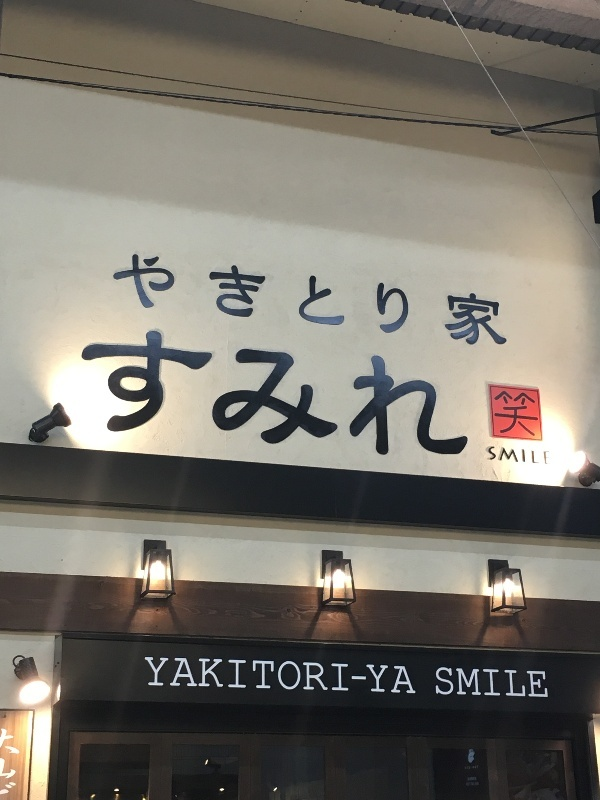text: (97, 322, 112, 466), (113, 322, 128, 466), (129, 322, 144, 466), (145, 322, 160, 466), (161, 322, 176, 466), (177, 322, 192, 466), (193, 322, 208, 466), (209, 322, 224, 466), (225, 322, 240, 466), (241, 322, 256, 466), (257, 322, 272, 466), (273, 322, 288, 466), (289, 322, 304, 466), (305, 322, 320, 466), (321, 322, 336, 466), (337, 322, 352, 466), (353, 322, 368, 466), (369, 322, 384, 466), (385, 322, 400, 466), (401, 322, 416, 466), (417, 322, 432, 466), (433, 322, 448, 466), (449, 322, 464, 466), (129, 247, 144, 353), (145, 247, 160, 353), (161, 247, 176, 353), (177, 247, 192, 353), (193, 247, 208, 353), (209, 247, 224, 353), (225, 247, 240, 353), (241, 247, 256, 353), (257, 247, 272, 353), (273, 247, 288, 353), (289, 247, 304, 353), (305, 247, 320, 353), (321, 247, 336, 353), (337, 247, 352, 353), (353, 247, 368, 353), (369, 247, 384, 353), (385, 247, 400, 353), (401, 247, 416, 353), (417, 247, 432, 353), (433, 247, 448, 353), (449, 247, 464, 353), (465, 247, 480, 353), (481, 247, 496, 353), (85, 322, 96, 466), (117, 247, 128, 353), (497, 247, 508, 353), (1, 725, 16, 799), (497, 388, 512, 439), (513, 388, 528, 439), (145, 651, 160, 700), (161, 651, 176, 700), (177, 651, 192, 700), (193, 651, 208, 700), (209, 651, 224, 700), (225, 651, 240, 700), (241, 651, 256, 700), (257, 651, 272, 700), (273, 651, 288, 700), (289, 651, 304, 700), (305, 651, 320, 700), (321, 651, 336, 700), (337, 651, 352, 700), (353, 651, 368, 700), (369, 651, 384, 700), (385, 651, 400, 700), (401, 651, 416, 700), (465, 322, 470, 466), (529, 388, 541, 439), (449, 664, 464, 704), (465, 664, 480, 704), (481, 664, 496, 704), (497, 664, 512, 704), (513, 664, 528, 704), (529, 664, 544, 704), (434, 664, 448, 704), (17, 725, 24, 799), (497, 445, 512, 466), (513, 445, 528, 466), (529, 445, 544, 466), (545, 664, 551, 704), (489, 445, 496, 466), (545, 445, 551, 466), (495, 388, 496, 439), (417, 651, 418, 700)
